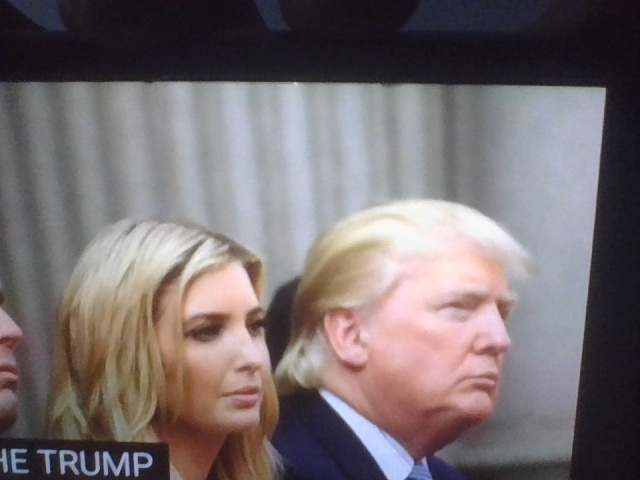fake: (336, 168, 536, 451), (130, 212, 295, 446)
